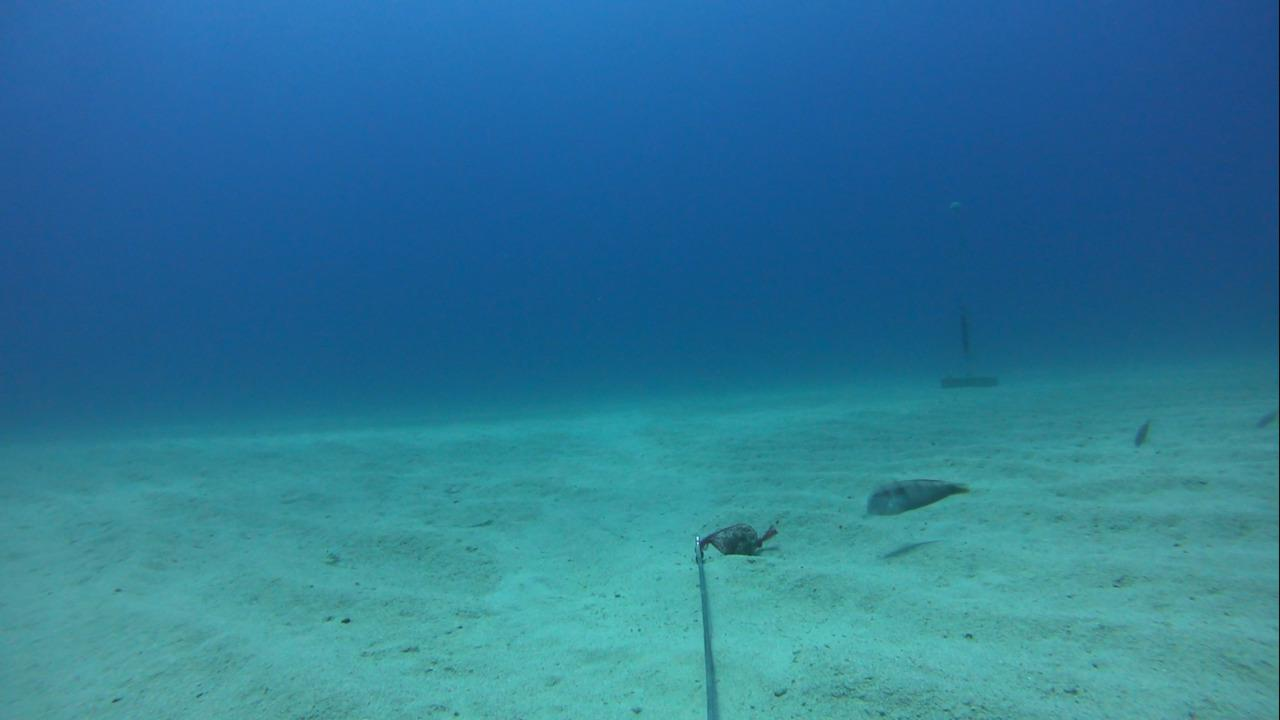raor: (855, 463, 973, 527), (1245, 402, 1279, 446), (1125, 408, 1151, 458)
